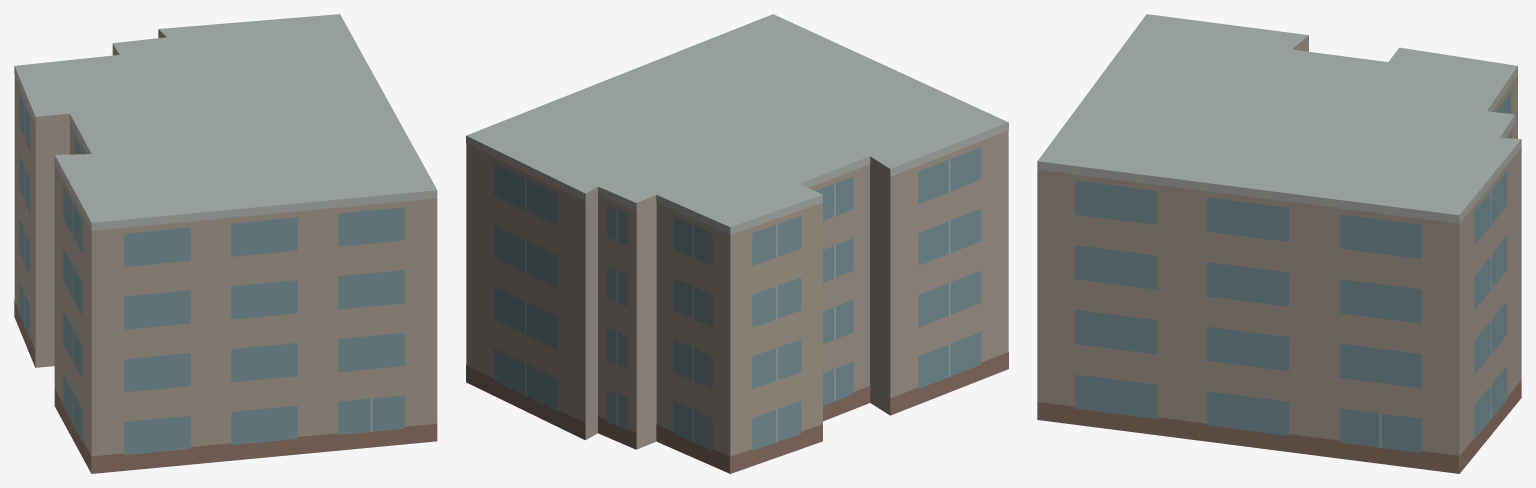
File: survey-upis-32621281.glb
3 renders of one model, left to right at view 1: azimuth 30°, elevation 25°; view 2: azimuth 150°, elevation 25°; view 3: azimuth 270°, elevation 25°, orthographic. The views are drawn at different scales.
Parts seen in each view (by area): view 1: survey-upis-32621281.tmp; view 2: survey-upis-32621281.tmp; view 3: survey-upis-32621281.tmp.
Part boxes in pixels (<box>): survey-upis-32621281.tmp: <box>14,14,437,473</box>; survey-upis-32621281.tmp: <box>466,14,1008,473</box>; survey-upis-32621281.tmp: <box>1037,14,1521,473</box>.
Bounding box in the file's own units: 12.7 × 7.6 × 12.91.
